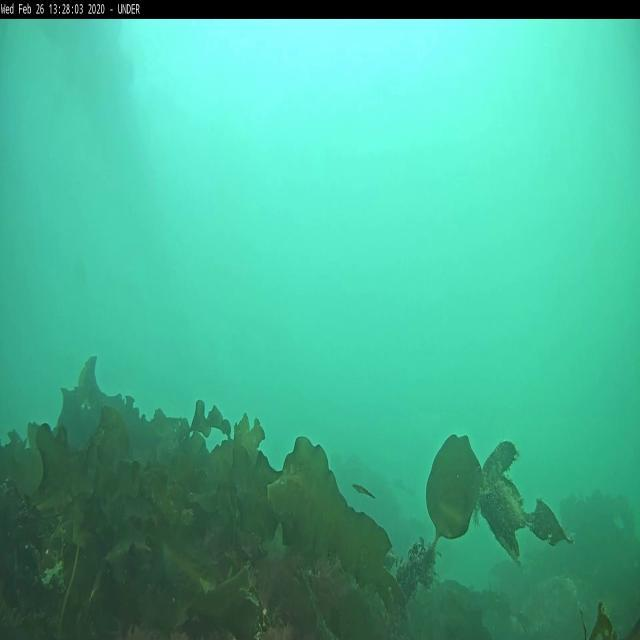fish: (349, 482, 377, 498)
